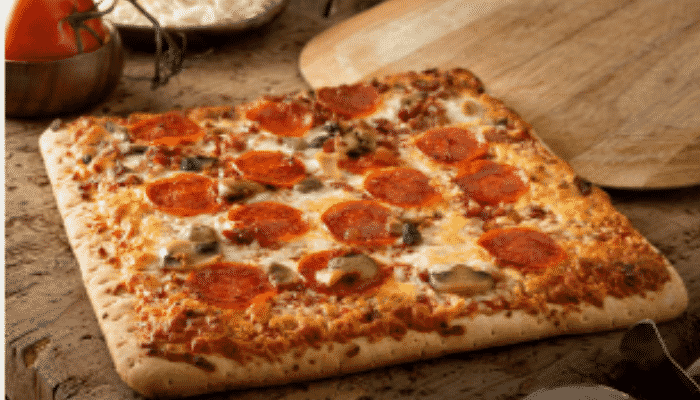Pizza: (37, 65, 690, 398)
